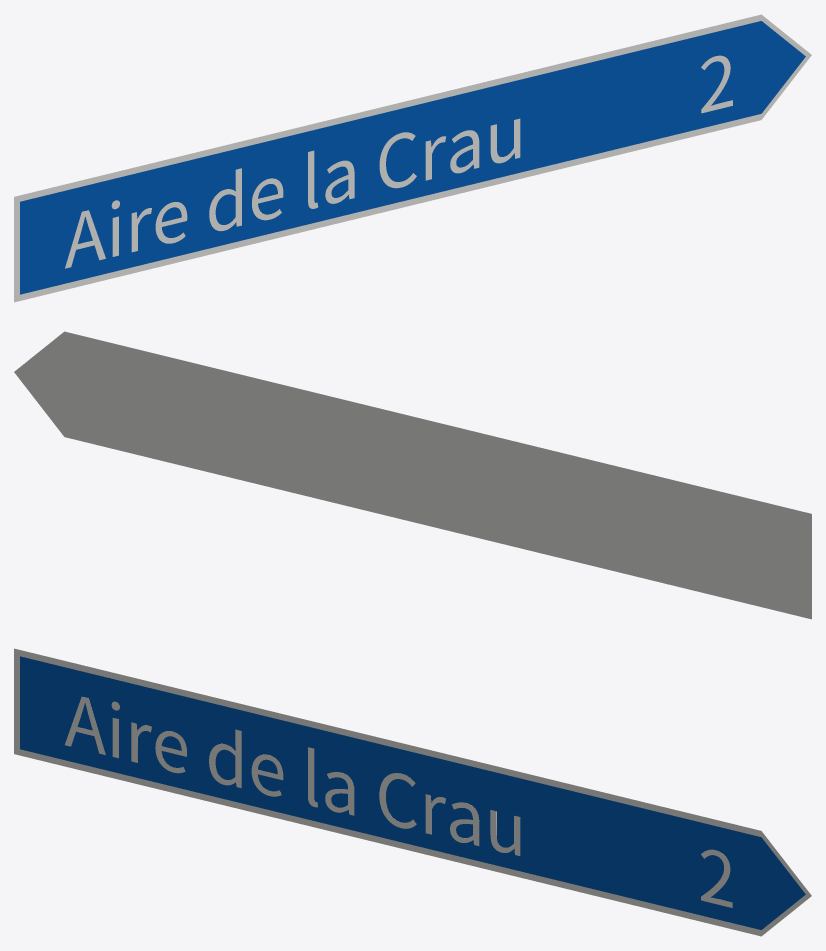
3 views of the same model, one above another, from view 1: azimuth 30°, elevation 25°; view 2: azimuth 150°, elevation 25°; view 3: azimuth 330°, elevation 25° (orthographic).
Parts seen in each view (by area): view 1: D48c_reg01, D48c_lis00, D48c_txt02, D48c_txt03; view 2: D48c_lis00; view 3: D48c_reg01, D48c_lis00, D48c_txt02, D48c_txt03.
Boxes of the visible parts, bbox=[...] form: D48c_reg01: bbox=[20, 21, 805, 294]; D48c_lis00: bbox=[14, 14, 811, 302]; D48c_txt02: bbox=[65, 118, 520, 268]; D48c_txt03: bbox=[701, 55, 732, 113]; D48c_lis00: bbox=[14, 331, 811, 619]; D48c_reg01: bbox=[20, 656, 805, 929]; D48c_lis00: bbox=[14, 648, 811, 936]; D48c_txt02: bbox=[65, 696, 520, 855]; D48c_txt03: bbox=[701, 849, 732, 907].
Bounding box in the file's own units: 5.06 × 0.64 × 0.0016.
